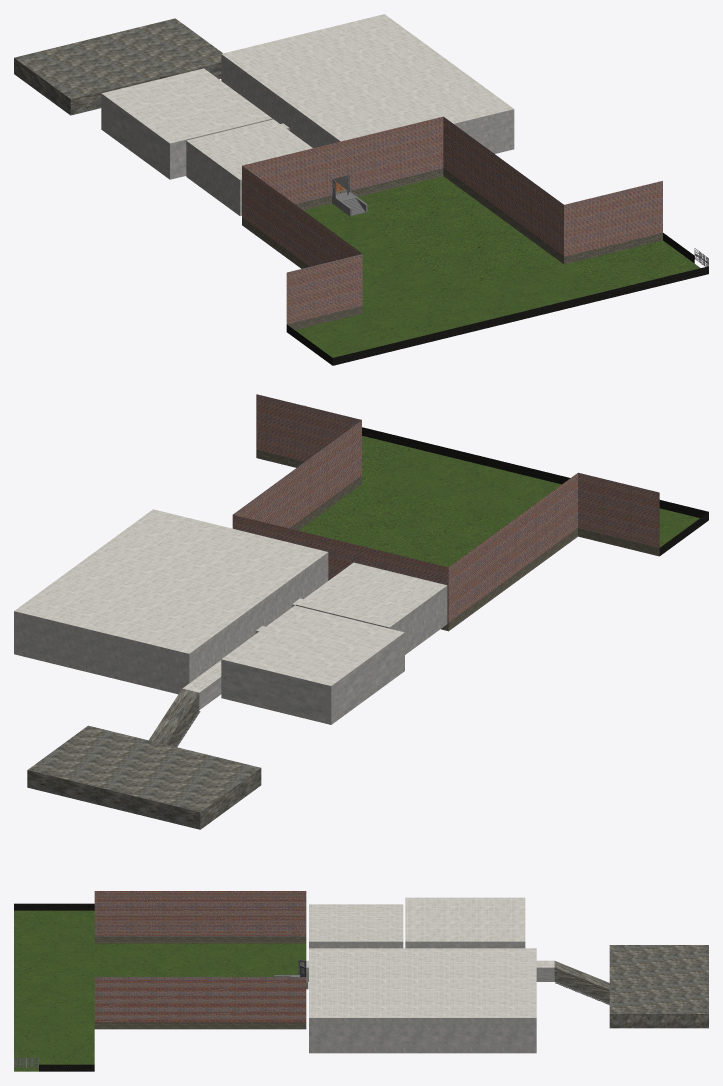
Rendered from mapBig.fbx.
3 renders of one model, top to bottom at view 1: azimuth 30°, elevation 25°; view 2: azimuth 150°, elevation 25°; view 3: azimuth 270°, elevation 25°, orthographic. The views are drawn at different scales.
Visible parts, largest first — view 1: map; view 2: map; view 3: map.
Boxes of the visible parts, box(x1,y1,x2,y2) form: map: box(14, 14, 708, 365); map: box(14, 394, 708, 829); map: box(14, 891, 708, 1071).
Size of the model in its own units: 9900 by 1954 by 18073.
Materials: 22 (22 with a texture image).
